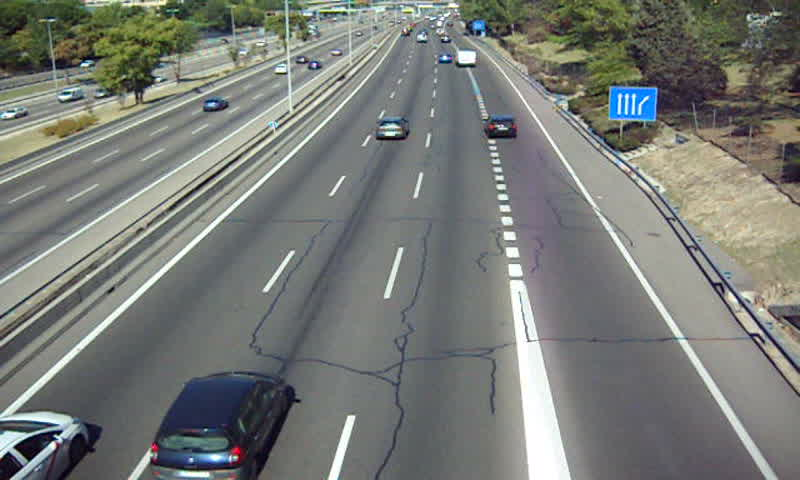car: (150, 373, 289, 480), (374, 115, 408, 140), (483, 116, 518, 138)
van: (454, 51, 477, 67)
